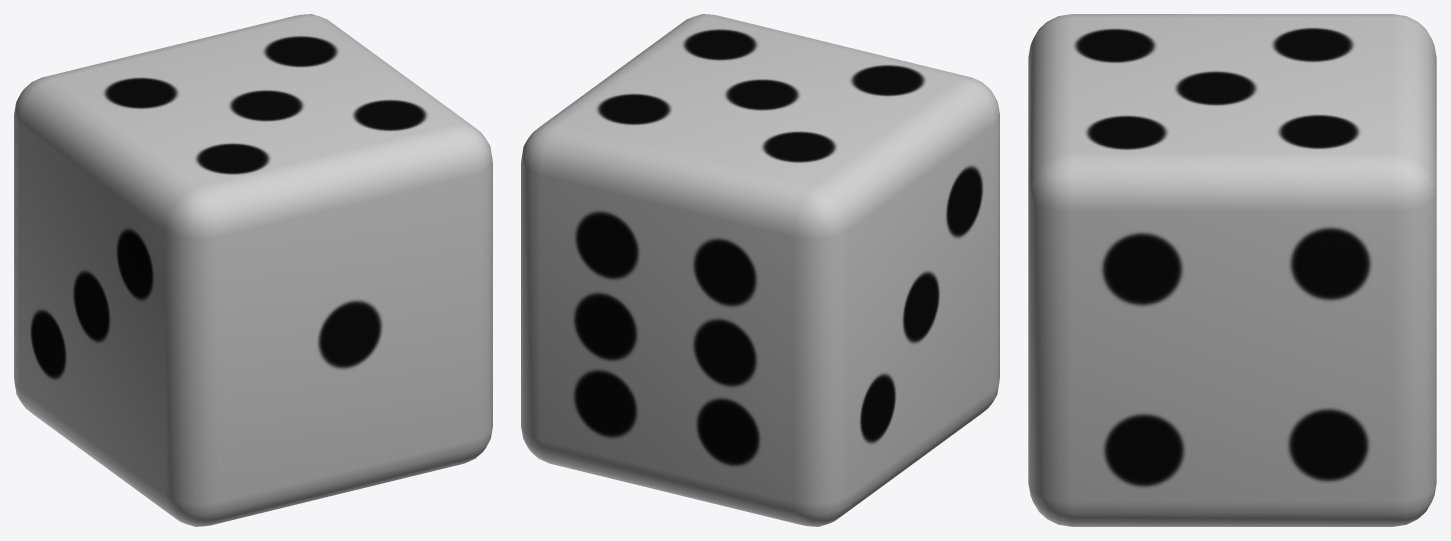
The model's file is Dado.fbx.
3 renders of one model, left to right at view 1: azimuth 30°, elevation 25°; view 2: azimuth 150°, elevation 25°; view 3: azimuth 270°, elevation 25°, orthographic. The views are drawn at different scales.
Visible parts, largest first — view 1: Dado; view 2: Dado; view 3: Dado.
Part boxes in pixels (x1,y1,x2,y2): Dado: (14,14,492,526); Dado: (521,14,999,526); Dado: (1028,14,1436,526).
Bounding box in the file's own units: 54.21 × 54.21 × 54.21.
Materials: 1 (1 with a texture image).
